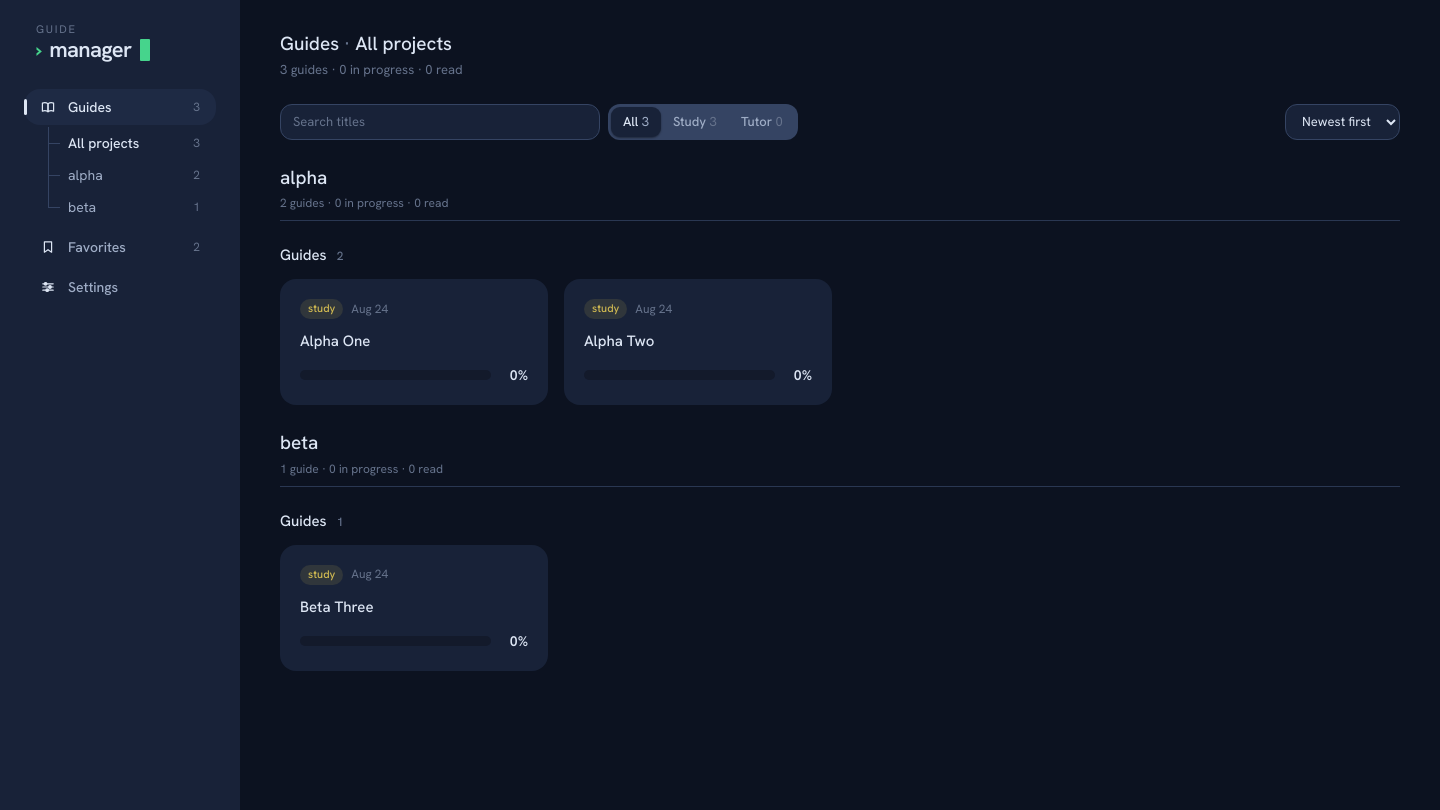
Test: App — the rail owns the project scope › writes the pick and narrows the board when a project row is clicked
Expected: the text "Beta Three" is shown, [300, 597, 374, 617]
Step 1. Click the button with class "rail-sublink" showing "alpha 2" → (132, 175), box [48, 159, 216, 191]
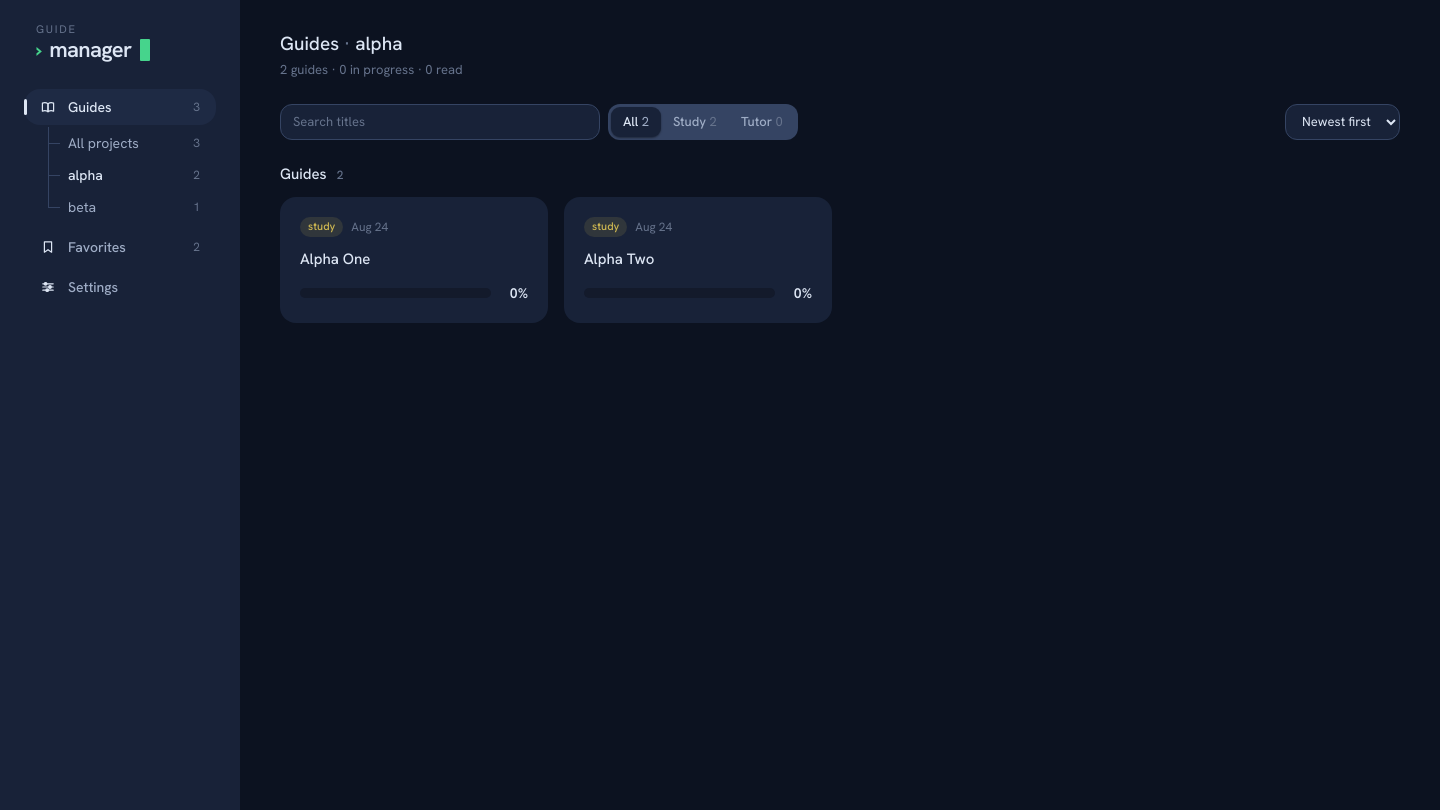
Result: the heading "Guides · alpha" is shown at [280, 32, 402, 56]
Result: the button "Beta Three" no longer shows "Beta Three"
